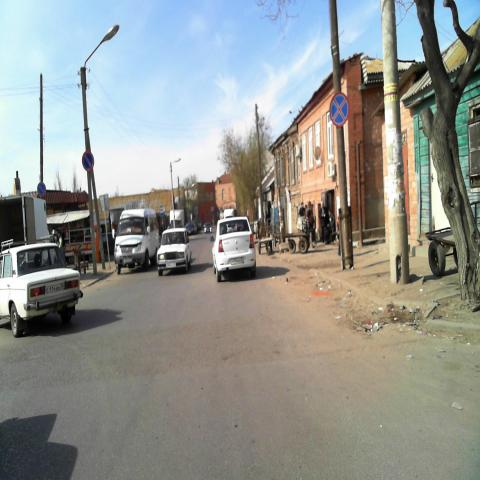3_28: (81, 150, 94, 171)
